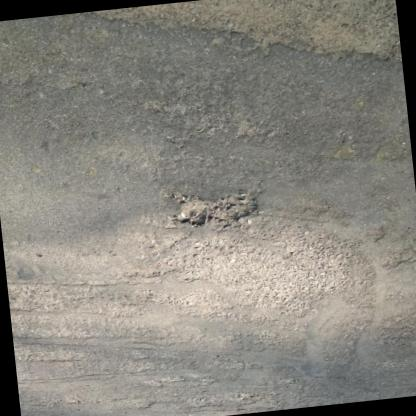pothole: (71, 0, 401, 95), (167, 186, 258, 232)
